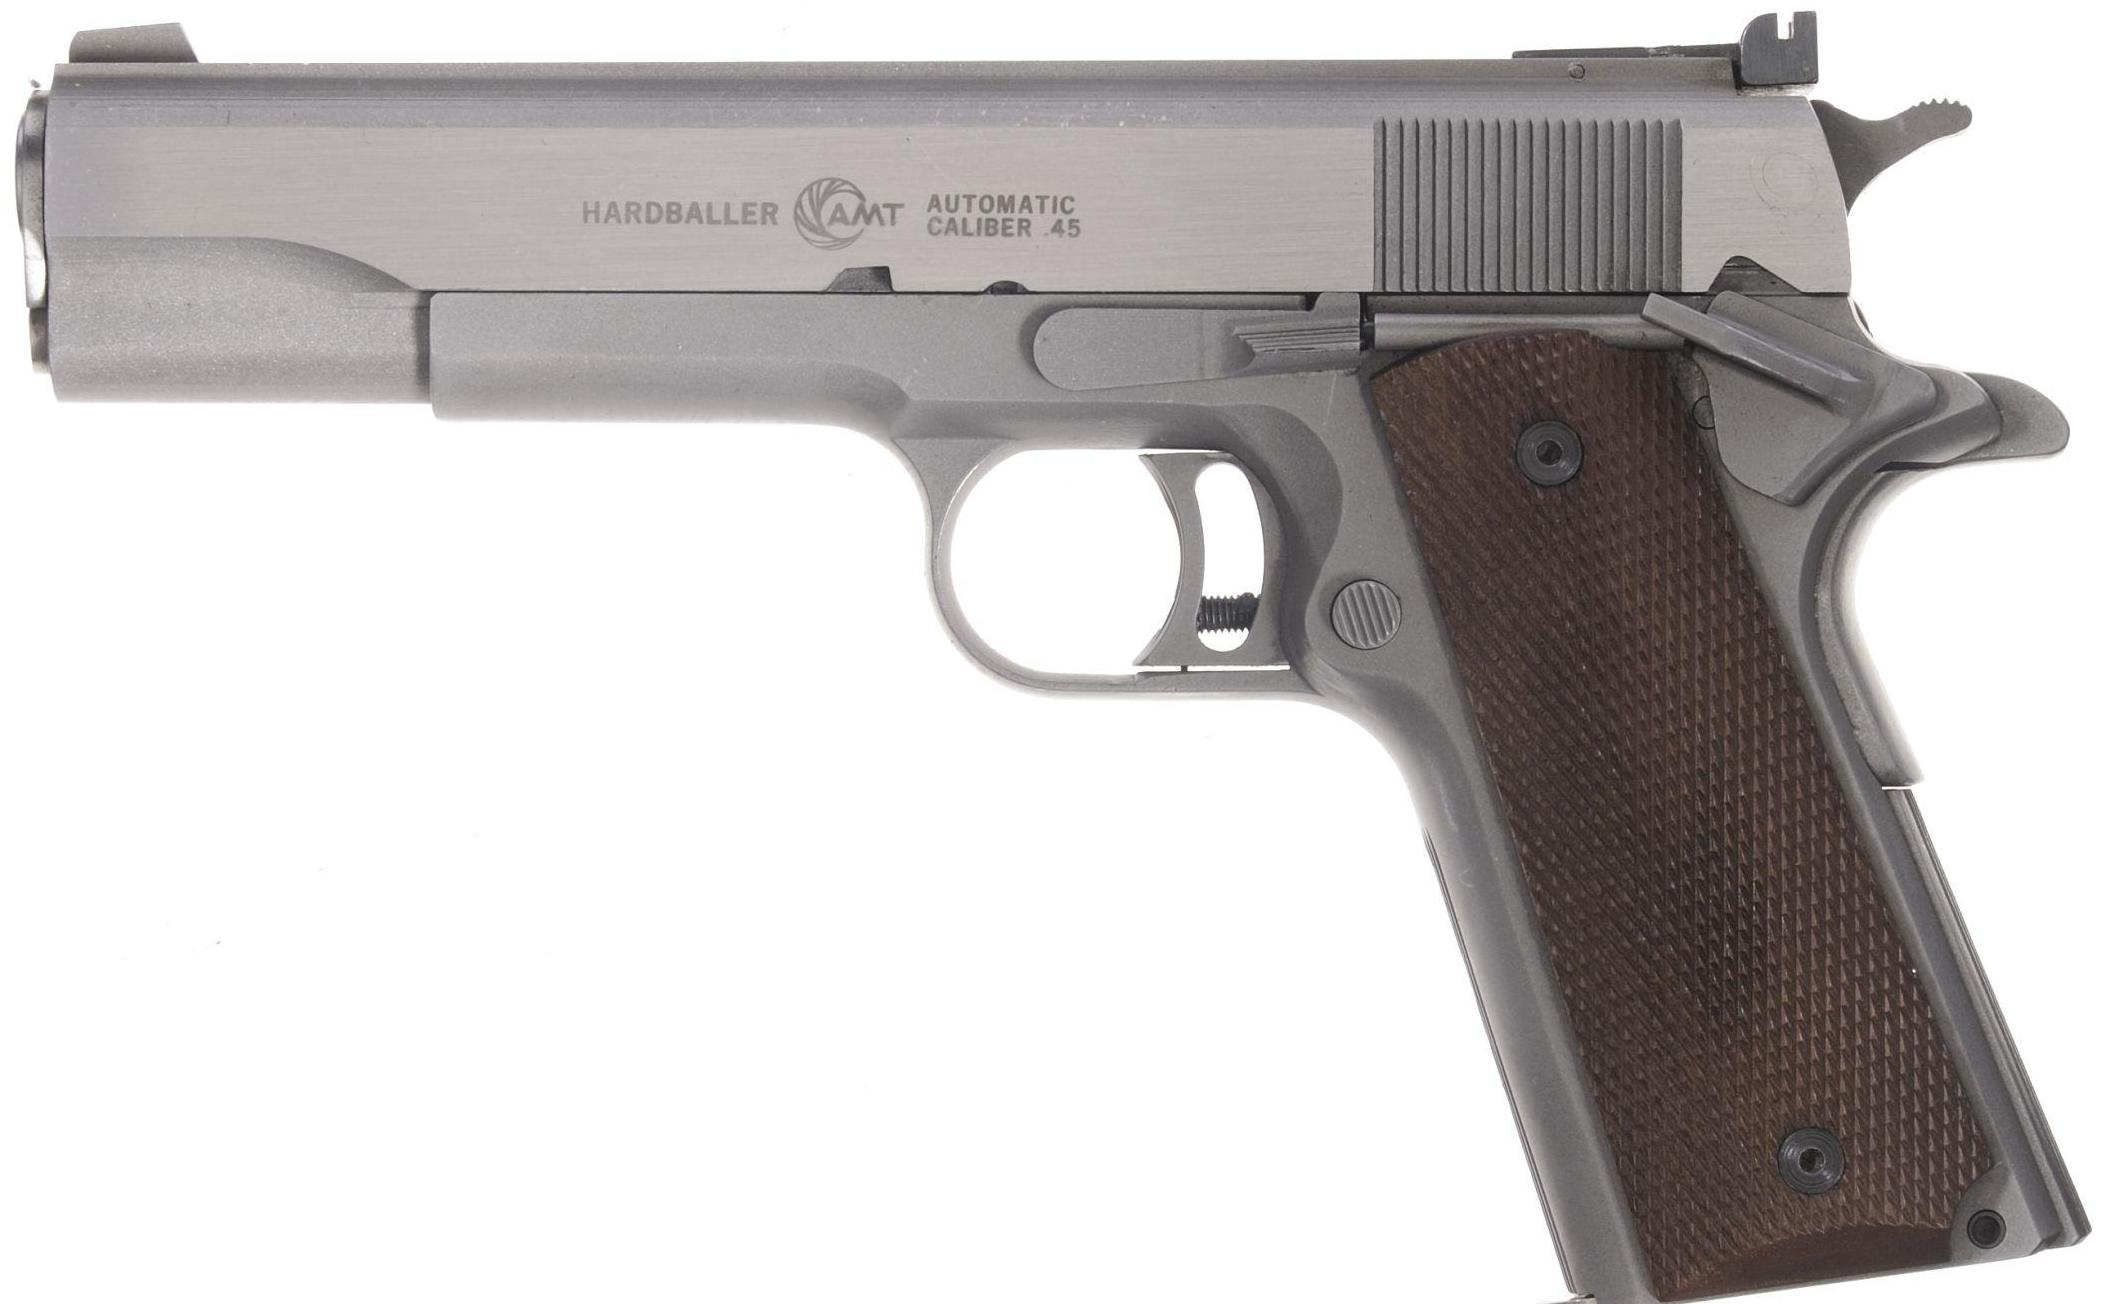gun: (0, 2, 2111, 1304)
